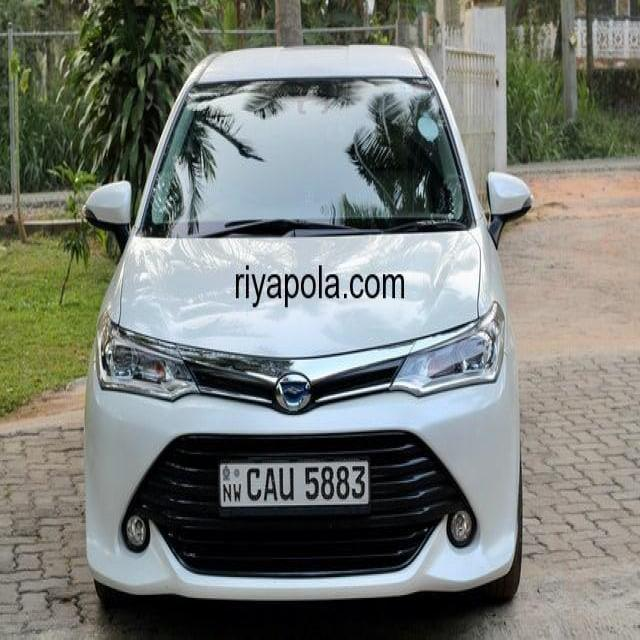license-plate: (219, 462, 367, 504)
